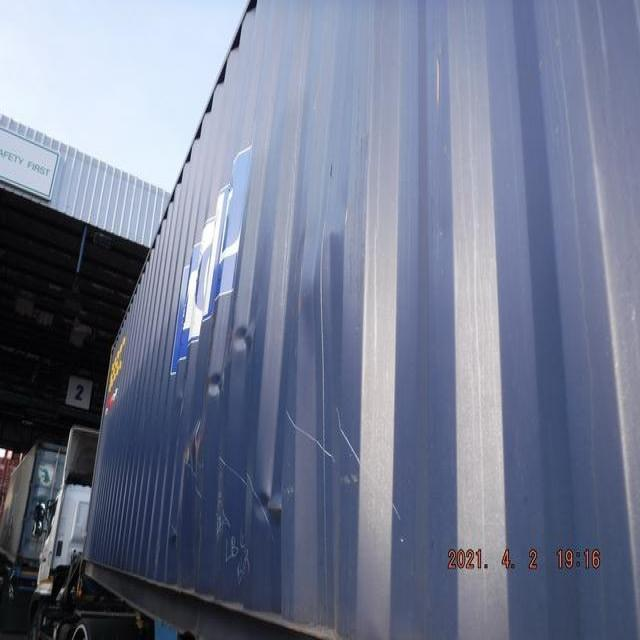Dent: (159, 299, 294, 551)
Minor-Dent: (282, 211, 367, 353)
